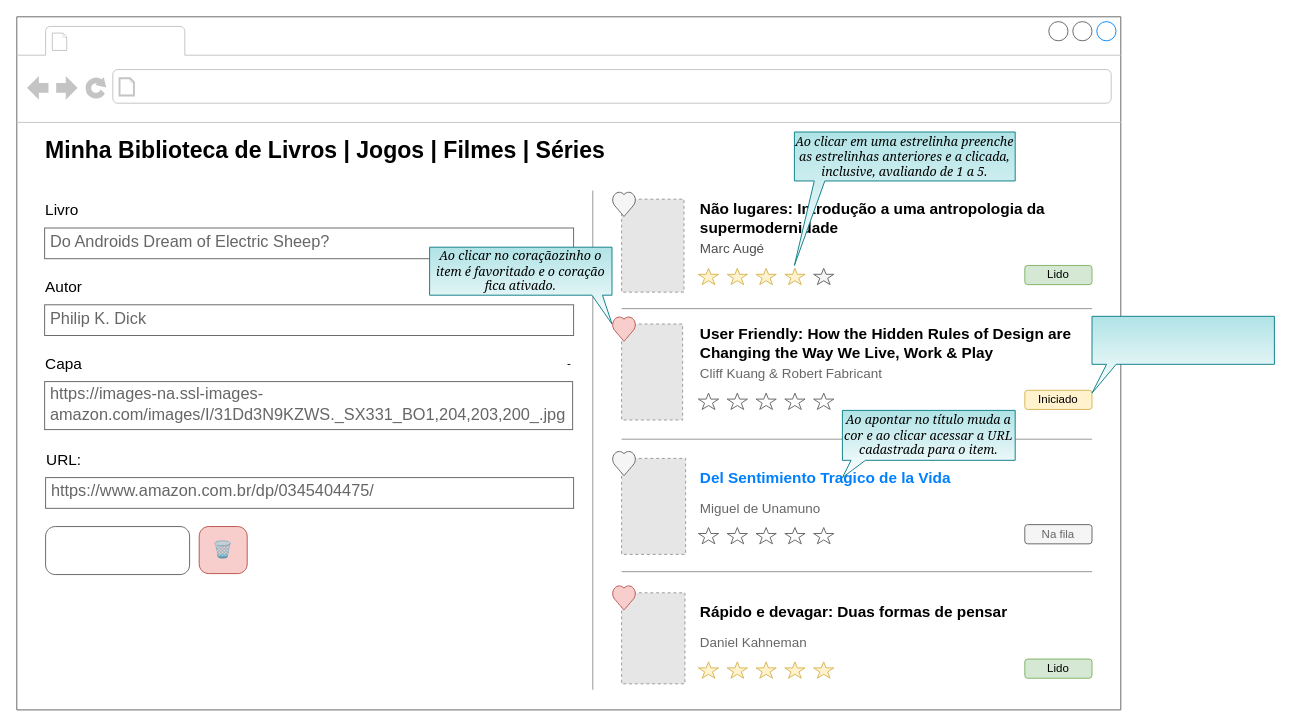
Image size: 1291x727. Some labels were removed from this diagram. Grey dashed boxes stand in for pictures. The shapes that lost their labels are listed below. From the top down, each one's box as (x1, y1, x2, y2) in pixels, then its label:
(73, 27, 180, 53): Biblioteca
(141, 73, 382, 99): https://dbo-2021.github.io/biblioteca
(1091, 315, 1274, 393): Ao clicar vai de "Na fila" para "Iniciado" e de "Iniciado" para "Lido".
(45, 526, 190, 575): ➕ Adicionar
